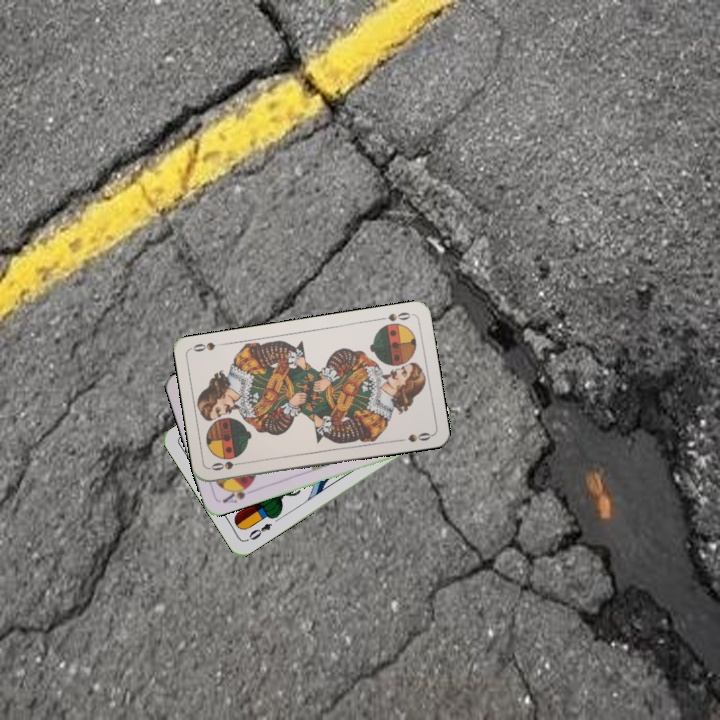EO: (242, 519, 275, 544)
SA: (218, 480, 255, 506)
SO: (207, 457, 247, 473), (374, 308, 413, 324)
